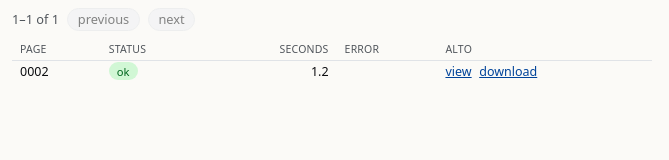
Test: PagesTable alto column › a failed download surfaces one sentence, not a thrown error
Click the button "download": (508, 72) [479,64,537,81]
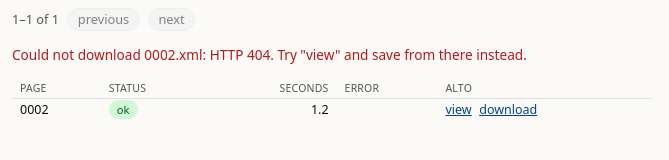
Expected: the message reads "Could not download 0002.xml: HTTP 404. Try \"view\" and save from there instead.", [12,45,527,64]
